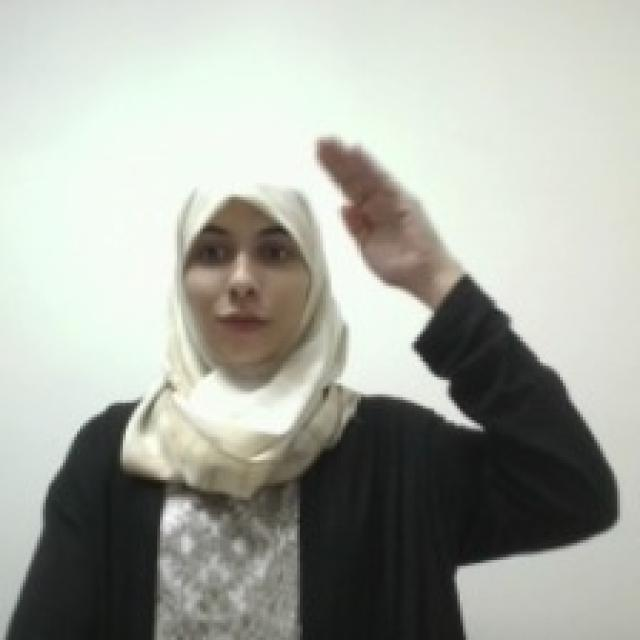Thanks: (311, 128, 442, 287)
